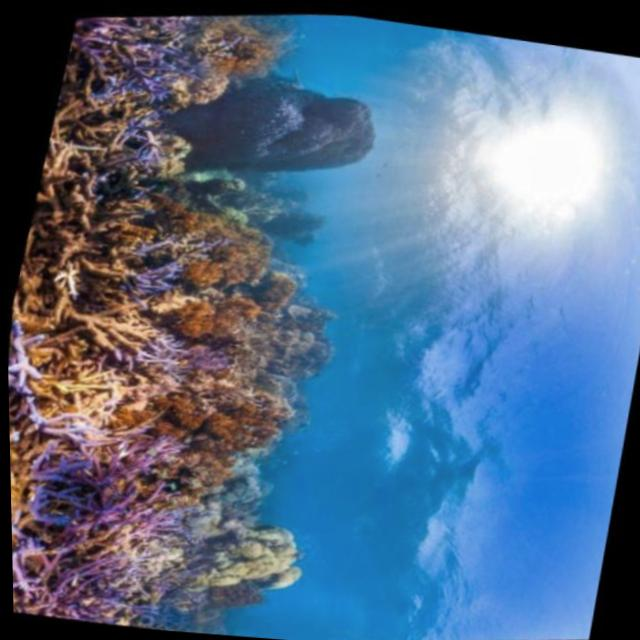Dead Coral: (9, 154, 165, 316), (41, 80, 133, 166)
